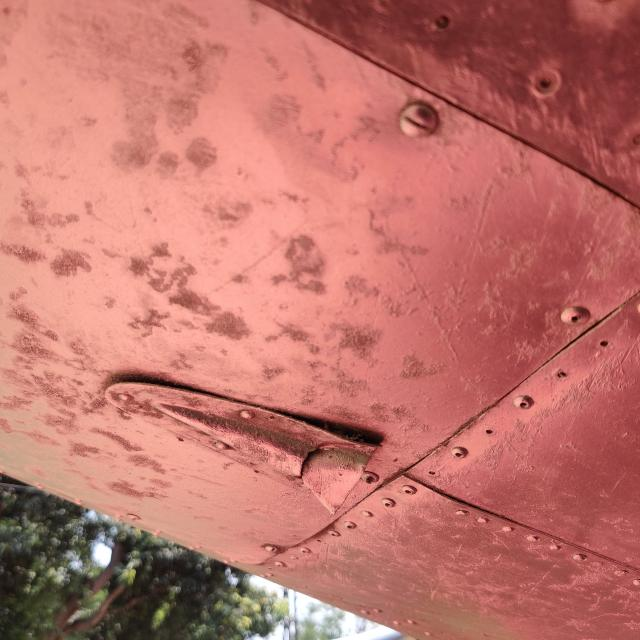crack: (284, 433, 337, 496)
